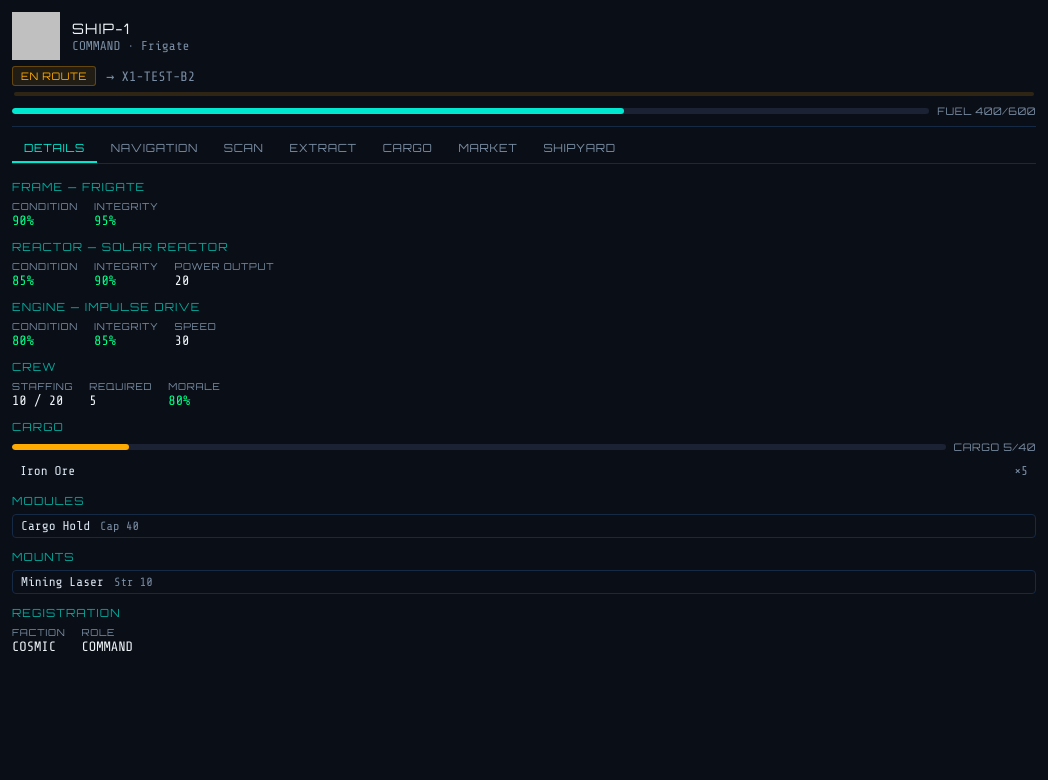
Scenario: FlightControl › shows transit info for in-transit ship
What coordinates should you click on to do the following:
click the button "Navigation"
I would click on:
 (154, 149)
Its box is [99,135,210,163].
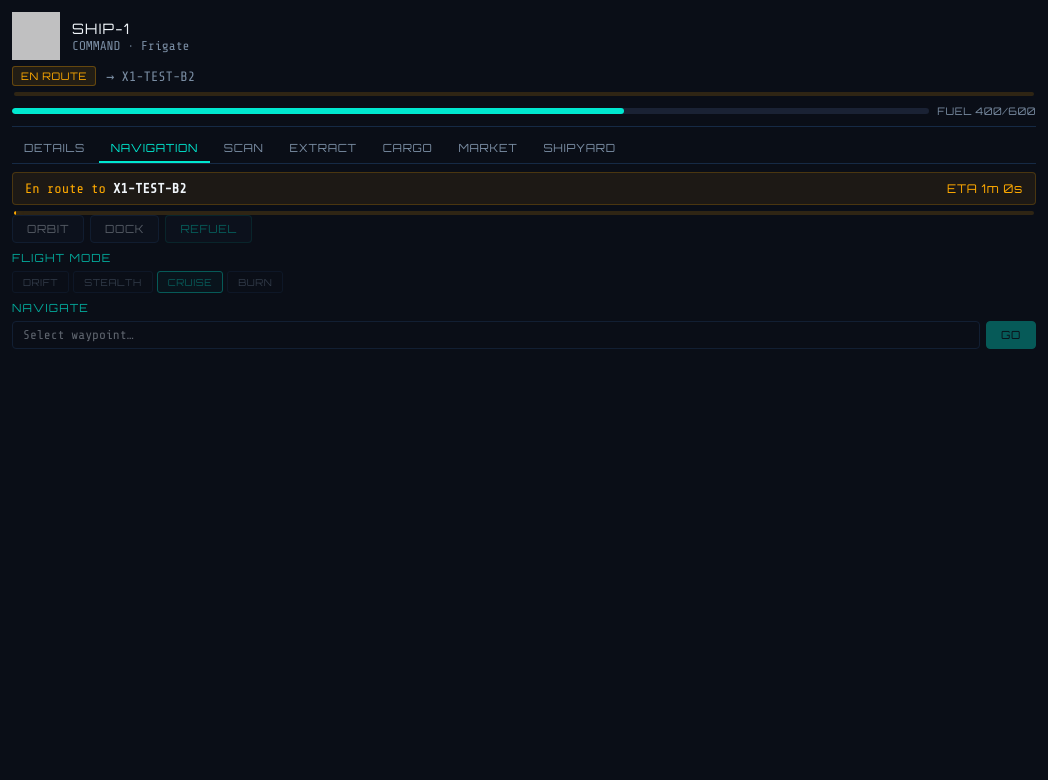
Check: the text "En route to X1-TEST-B2" is shown, box [25,181,186,196]
